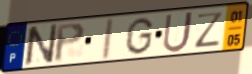G: (123, 16, 155, 56)
I: (99, 16, 116, 62)
N: (24, 22, 60, 68)
P: (53, 21, 87, 64)
U: (161, 10, 196, 55)
Z: (194, 10, 226, 49)
